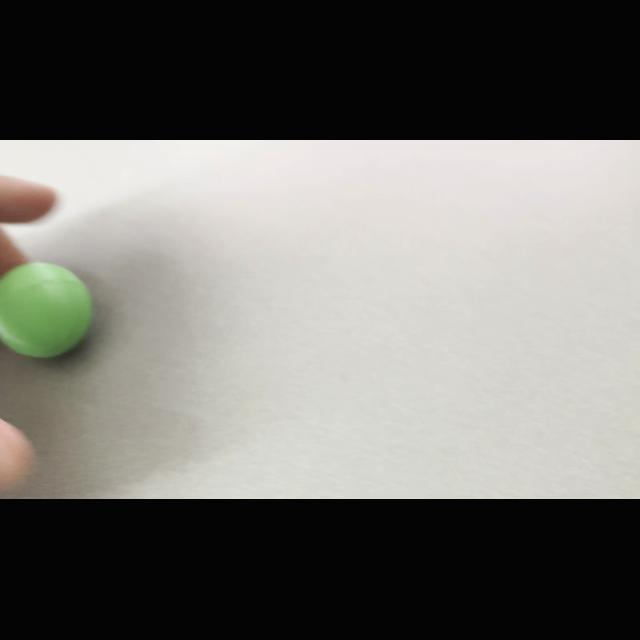objects: (1, 252, 99, 366)
